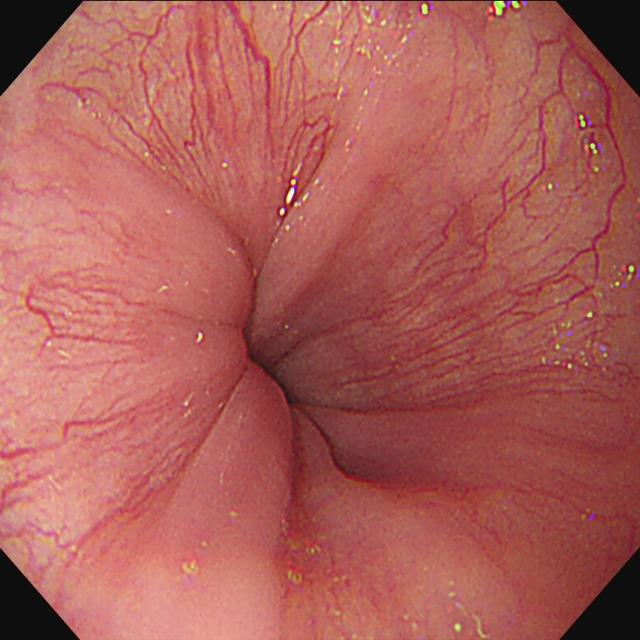E: (247, 344, 299, 414)
U: (486, 2, 525, 23), (278, 181, 297, 217)
